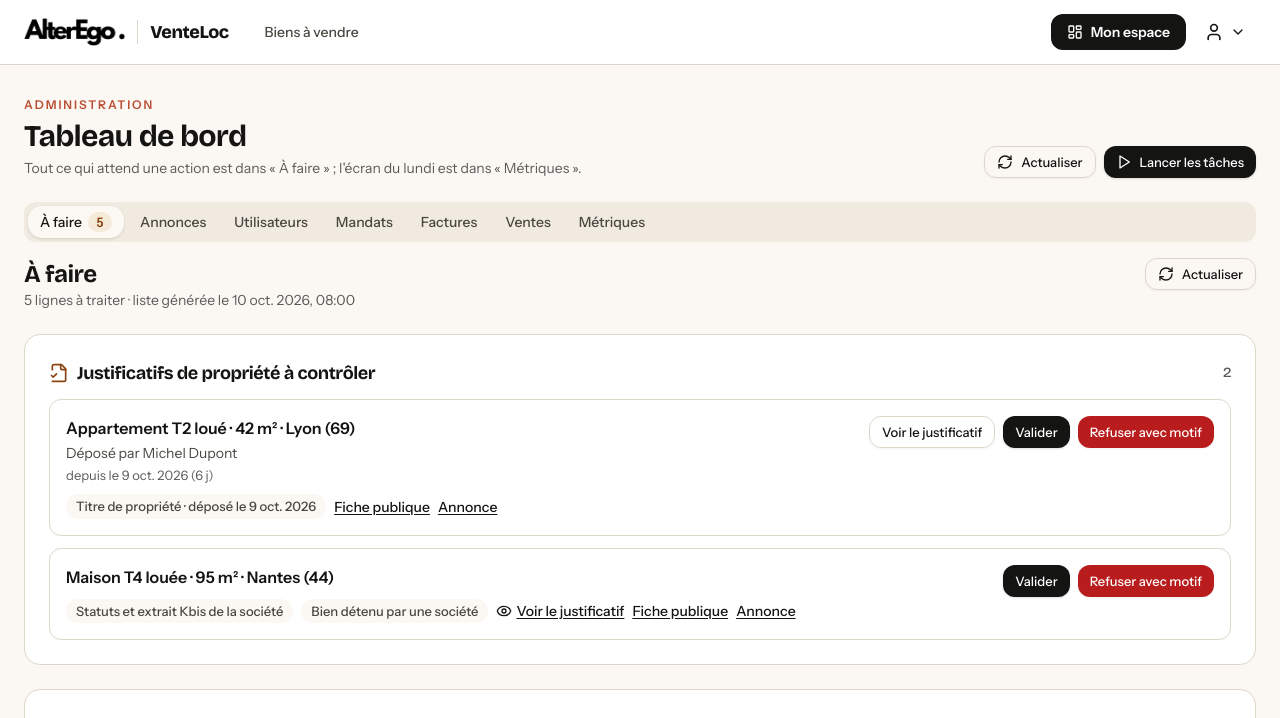
Test case: AdminDashboard › justificatifs : aperçu du fichier, « Valider » puis « Refuser » avec motif obligatoire
Later steps or results of the test are not shown.
Expected: the list item with test id "todo-row-op1" shows "Titre de propriété", [76, 498, 182, 514]
Click the button with test id "todo-action-op1-proof".
click(932, 432)  # box [869, 416, 995, 448]
Click the button with test id "todo-proof-op2".
click(560, 611)  # box [496, 601, 624, 621]
Click the button with test id "todo-action-op1-ownership_verify".
click(1036, 432)  # box [1003, 416, 1070, 448]
Click the button with test id "todo-action-op2-ownership_reject".
click(1146, 581)  # box [1078, 565, 1214, 597]
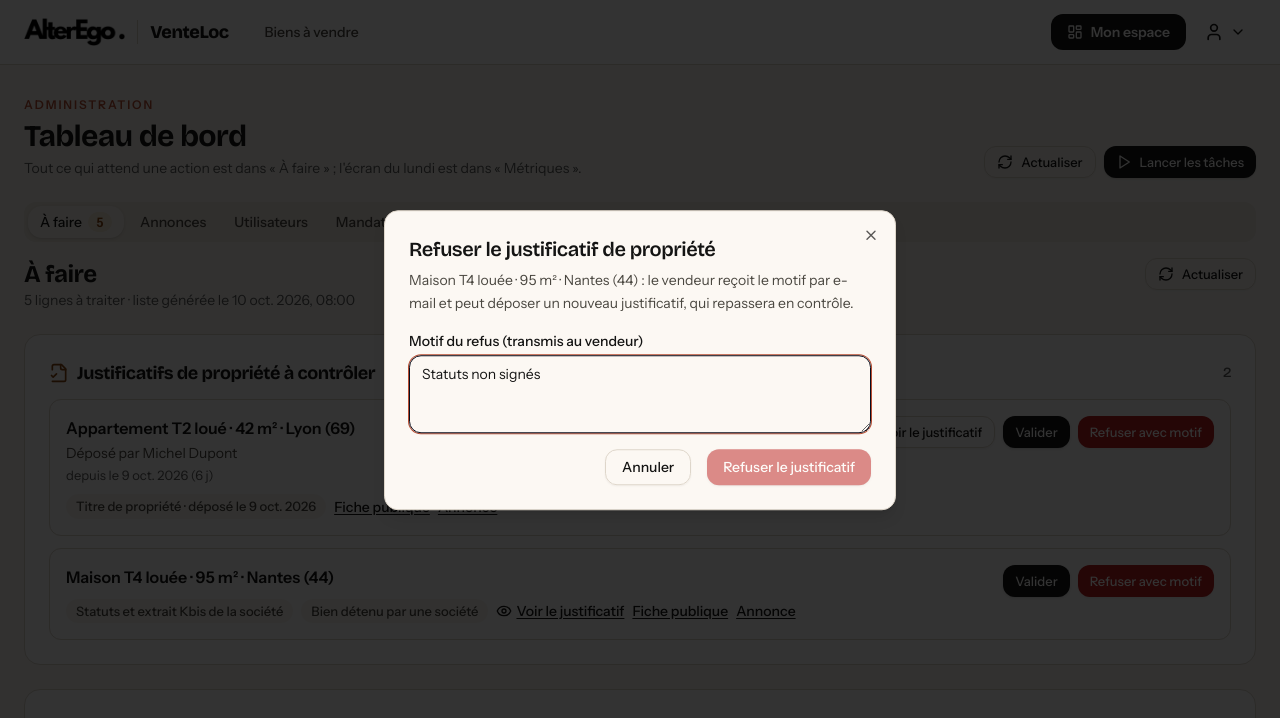
Result: the dialog with test id "ownership-reject-dialog" is shown at [384, 210, 896, 510]
Result: the button with test id "ownership-reject-dialog-confirm" is disabled at [707, 449, 871, 485]
